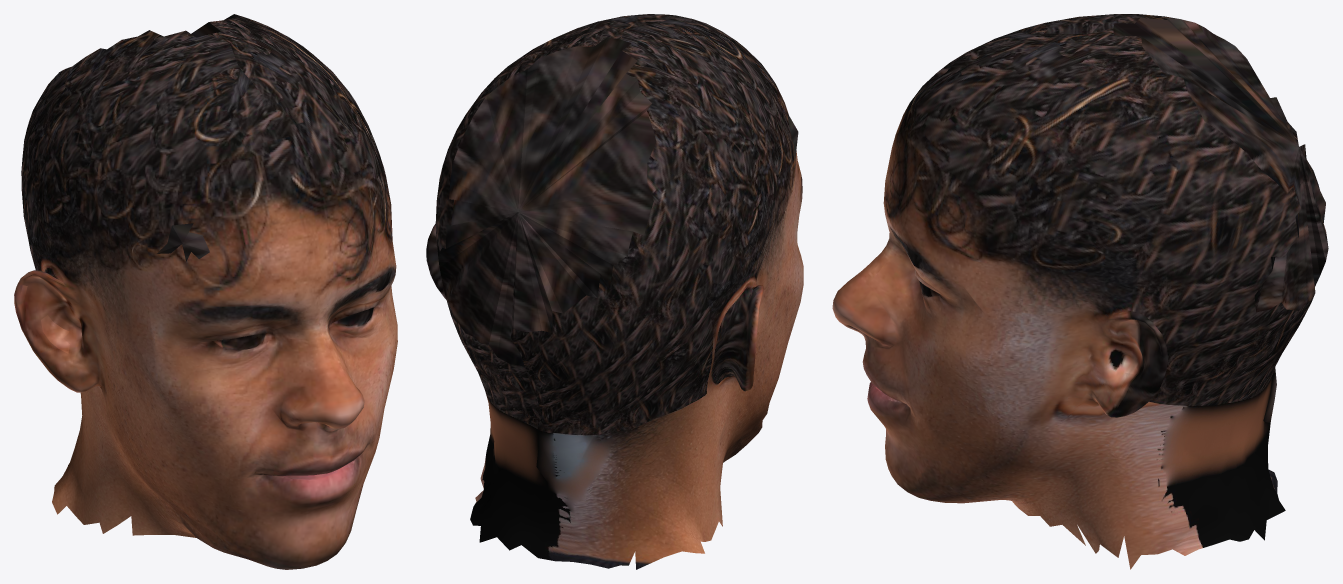
The model's file is yamal_head.glb.
The picture shows the model from 3 angles, left to right: view 1: azimuth 30°, elevation 25°; view 2: azimuth 150°, elevation 25°; view 3: azimuth 270°, elevation 25°; orthographic projection. The views are drawn at different scales.
Visible parts, largest first — view 1: YamalHead; view 2: YamalHead; view 3: YamalHead.
Part boxes in pixels (x1,y1,x2,y2): YamalHead: [14, 14, 397, 569]; YamalHead: [426, 14, 803, 569]; YamalHead: [832, 14, 1328, 569].
Bounding box in the file's own units: 0.1597 × 0.2167 × 0.2012.
1 material, 1 textured.
